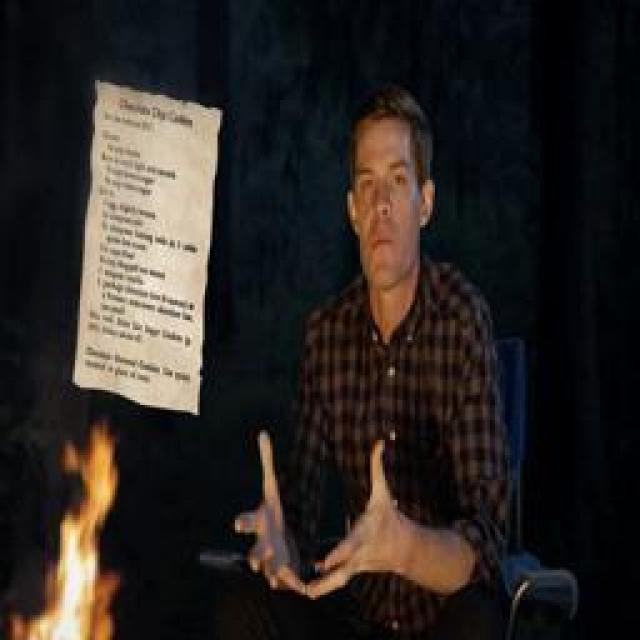Fire: (9, 417, 122, 640)
